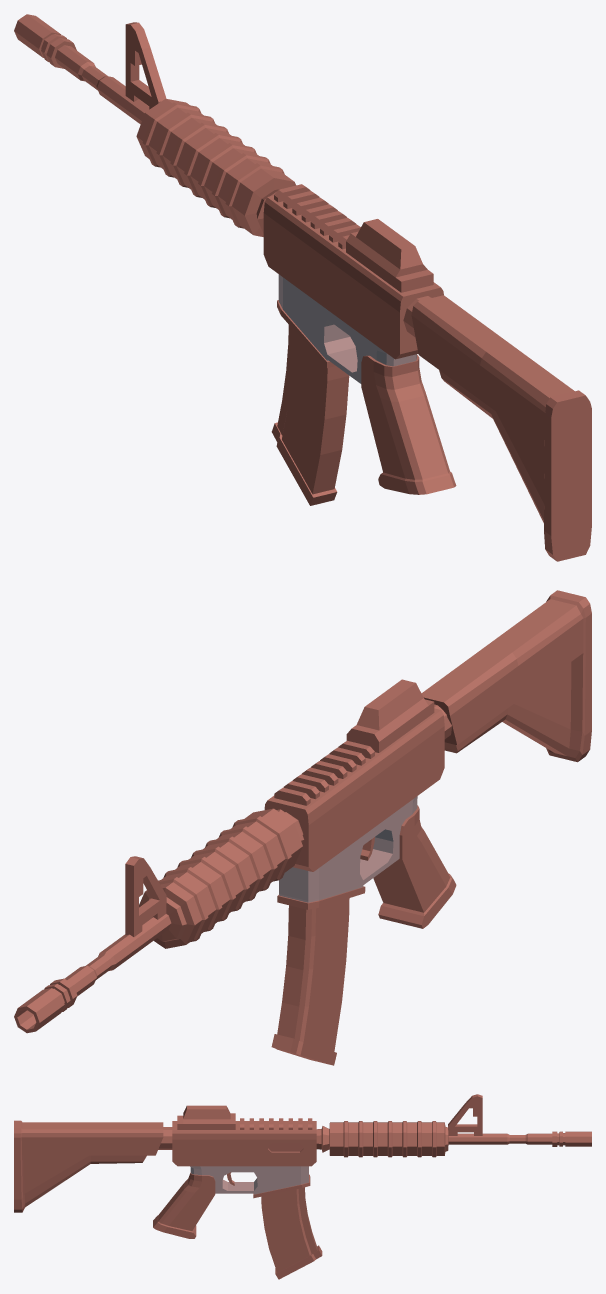
The model's file is fire.glb.
3 views of the same model, one above another, from view 1: azimuth 30°, elevation 25°; view 2: azimuth 150°, elevation 25°; view 3: azimuth 270°, elevation 25° (orthographic). The views are drawn at different scales.
Parts seen in each view (by area): view 1: RIVALS-rifle; view 2: RIVALS-rifle; view 3: RIVALS-rifle.
Boxes of the visible parts, x1,y1,x2,y2 form: RIVALS-rifle: (14, 14, 591, 561); RIVALS-rifle: (14, 590, 591, 1065); RIVALS-rifle: (14, 1094, 591, 1279).
Bounding box in the file's own units: 0.1776 × 0.918 × 2.65.
